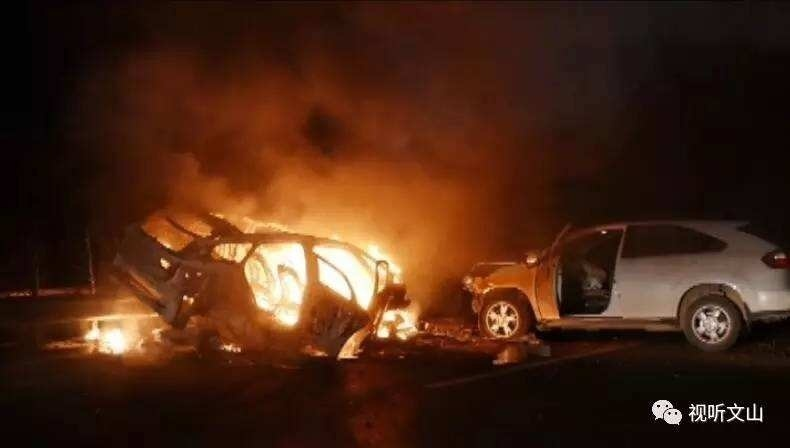fire: (153, 203, 428, 343)
